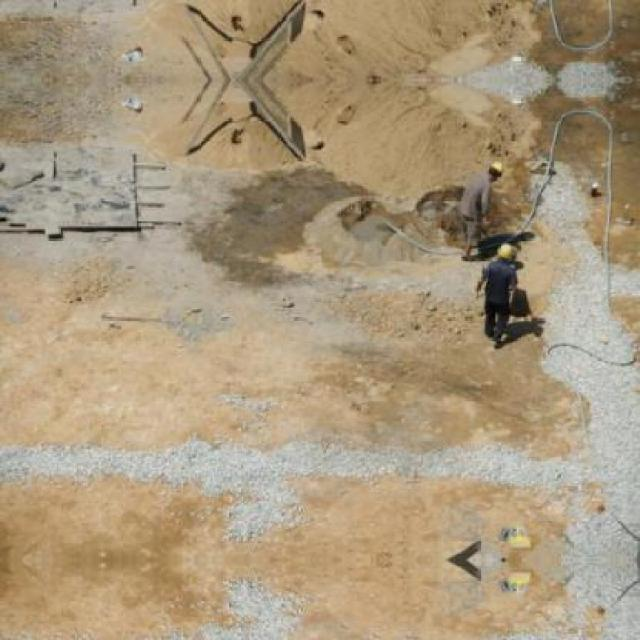helmet: (484, 157, 507, 185), (496, 240, 516, 262)
